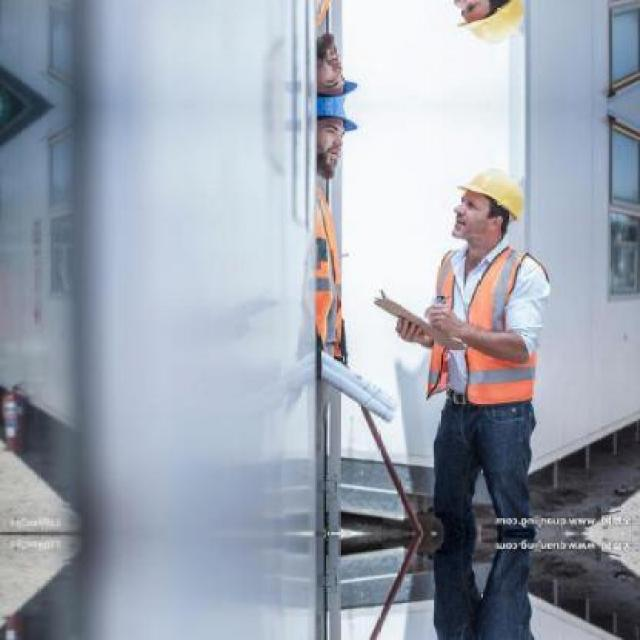Reflective-Jacket: (420, 242, 551, 418), (315, 179, 348, 356)
Safety-Helmet: (448, 1, 542, 58), (451, 162, 535, 225)
